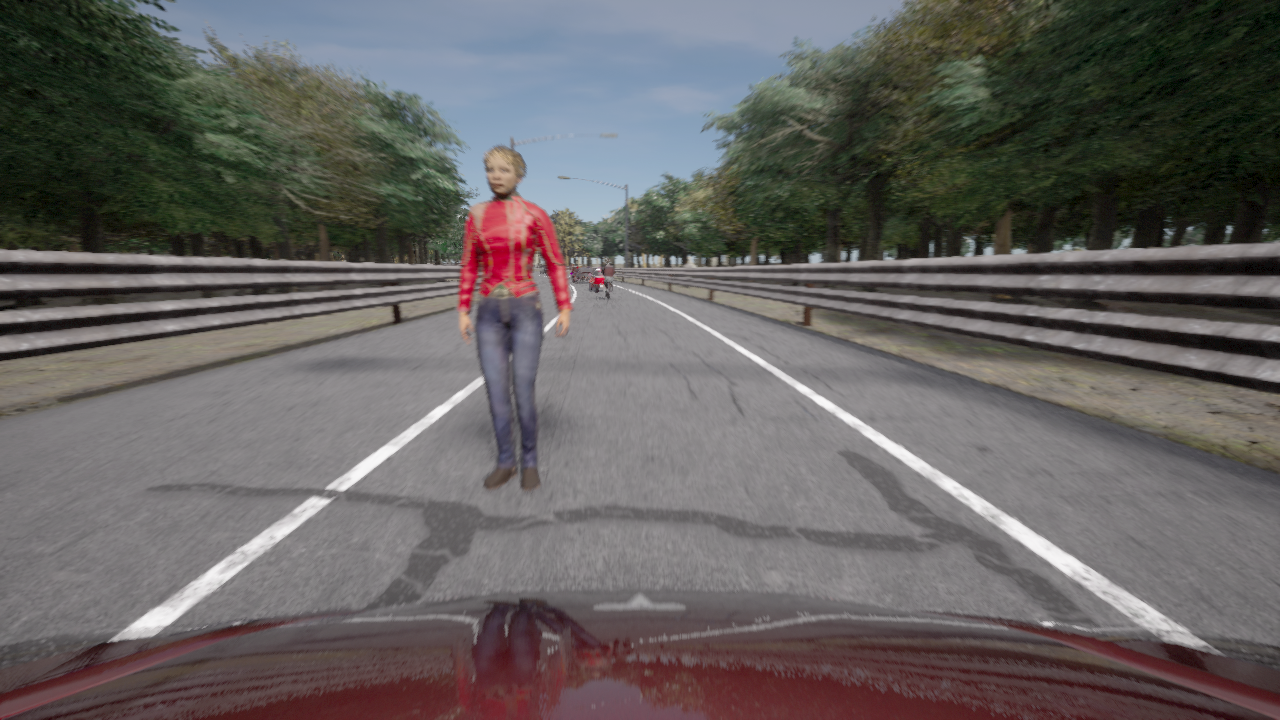cyclist: (0, 588, 1279, 719), (589, 268, 612, 291), (572, 266, 593, 282), (605, 281, 611, 299), (540, 265, 546, 274), (546, 269, 548, 275), (571, 272, 572, 278)
pedestrian: (457, 145, 573, 490), (683, 261, 691, 287)
